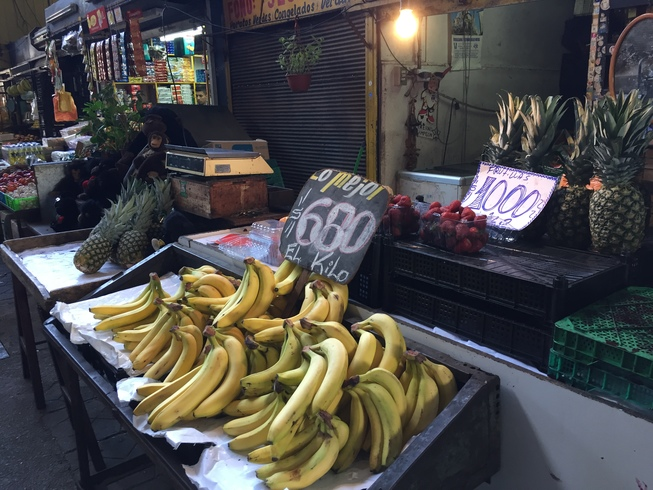precio: (275, 167, 398, 292), (464, 158, 560, 240)
